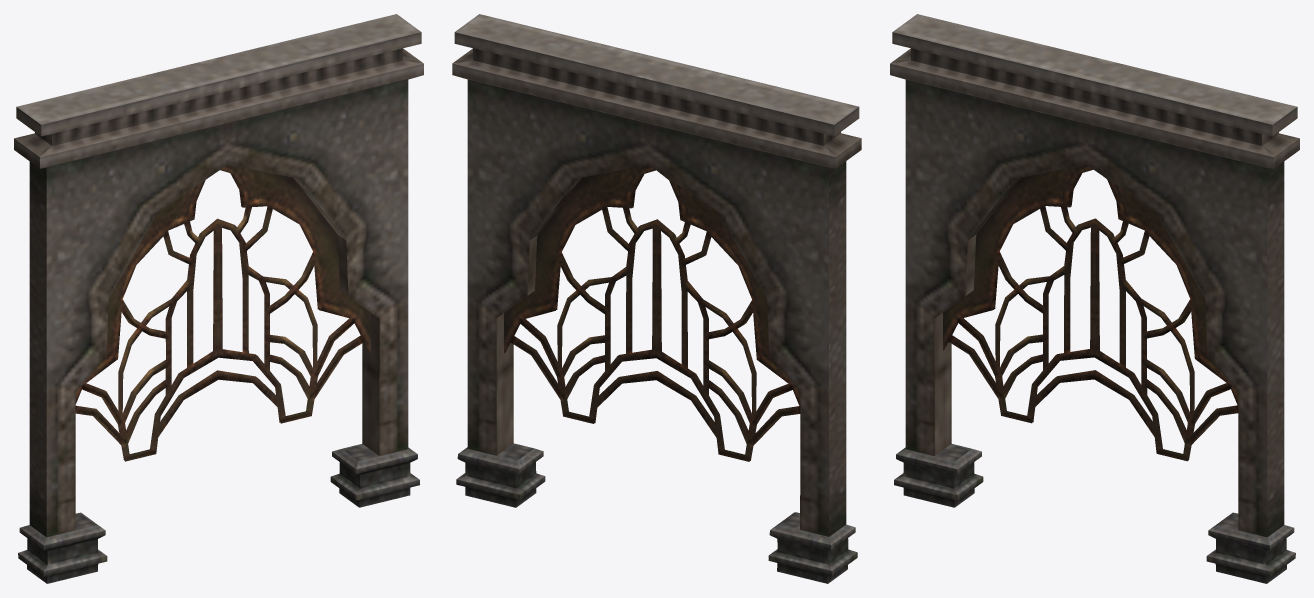
The model's file is SM_zhucheng_baiqiang01.FBX.
3 views of the same model, side by side, from view 1: azimuth 30°, elevation 25°; view 2: azimuth 150°, elevation 25°; view 3: azimuth 330°, elevation 25° (orthographic).
Visible parts, largest first — view 1: SM_zhucheng_baiqiang01; view 2: SM_zhucheng_baiqiang01; view 3: SM_zhucheng_baiqiang01.
Part boxes in pixels (x1,y1,x2,y2): SM_zhucheng_baiqiang01: (14, 14, 423, 583); SM_zhucheng_baiqiang01: (452, 14, 861, 583); SM_zhucheng_baiqiang01: (890, 14, 1299, 583).
Bounding box in the file's own units: 162 × 187 × 18.89.
